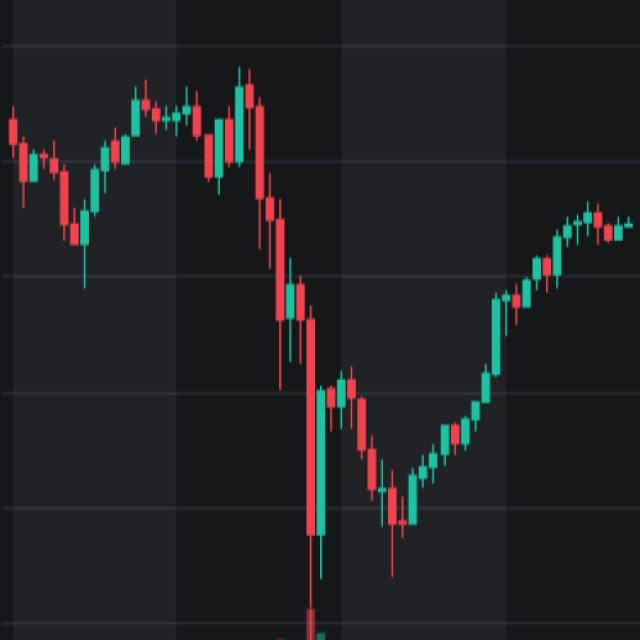Ascending-Triangle: (5, 56, 389, 319)
Rising-Wedge: (317, 163, 637, 610)
